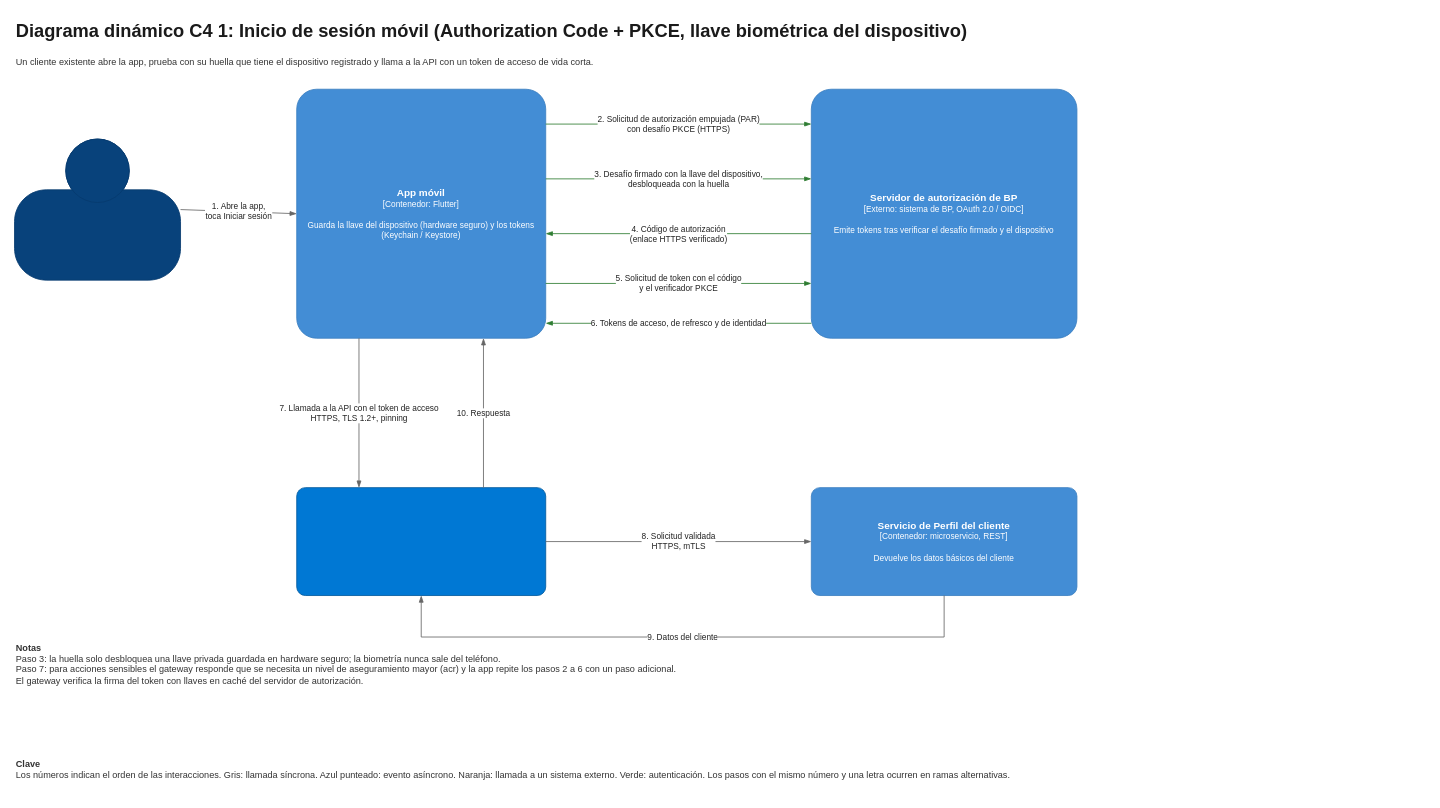
This 1440x808 diagram has some shape labels left out. The centre of each missing label's shape, as x and y in pixels:
"API Gateway [Contenedor: API gateway administrado] Valida el token" belongs at pixel 421 541.
"Cliente [Persona] Cliente actual con un dispositivo registrado" belongs at pixel 97 209.
